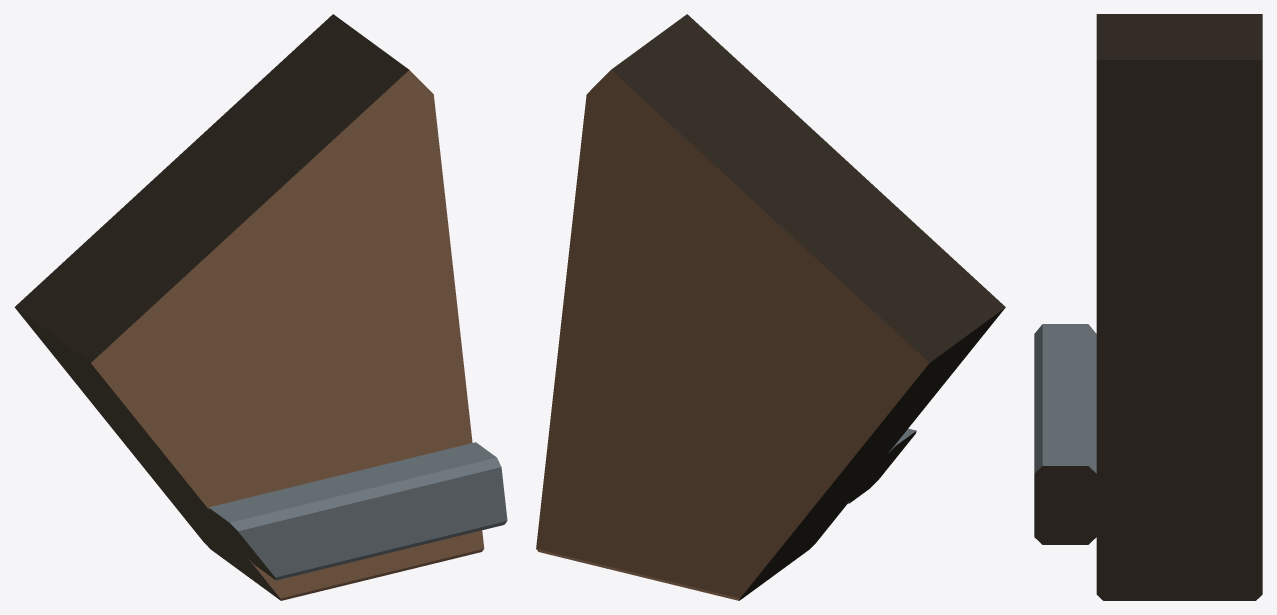
The model's file is SM_DoorShard_01_34.fbx.
3 renders of one model, left to right at view 1: azimuth 30°, elevation 25°; view 2: azimuth 150°, elevation 25°; view 3: azimuth 270°, elevation 25°, orthographic. The views are drawn at different scales.
Visible parts, largest first — view 1: SM_DoorShard_01_34; view 2: SM_DoorShard_01_34; view 3: SM_DoorShard_01_34.
Part boxes in pixels (x1=…): SM_DoorShard_01_34: x1=14, y1=14, x2=507, y2=600; SM_DoorShard_01_34: x1=536, y1=14, x2=1005, y2=600; SM_DoorShard_01_34: x1=1034, y1=14, x2=1262, y2=600.
Bounding box in the file's own units: 47.71 × 22 × 58.17.
